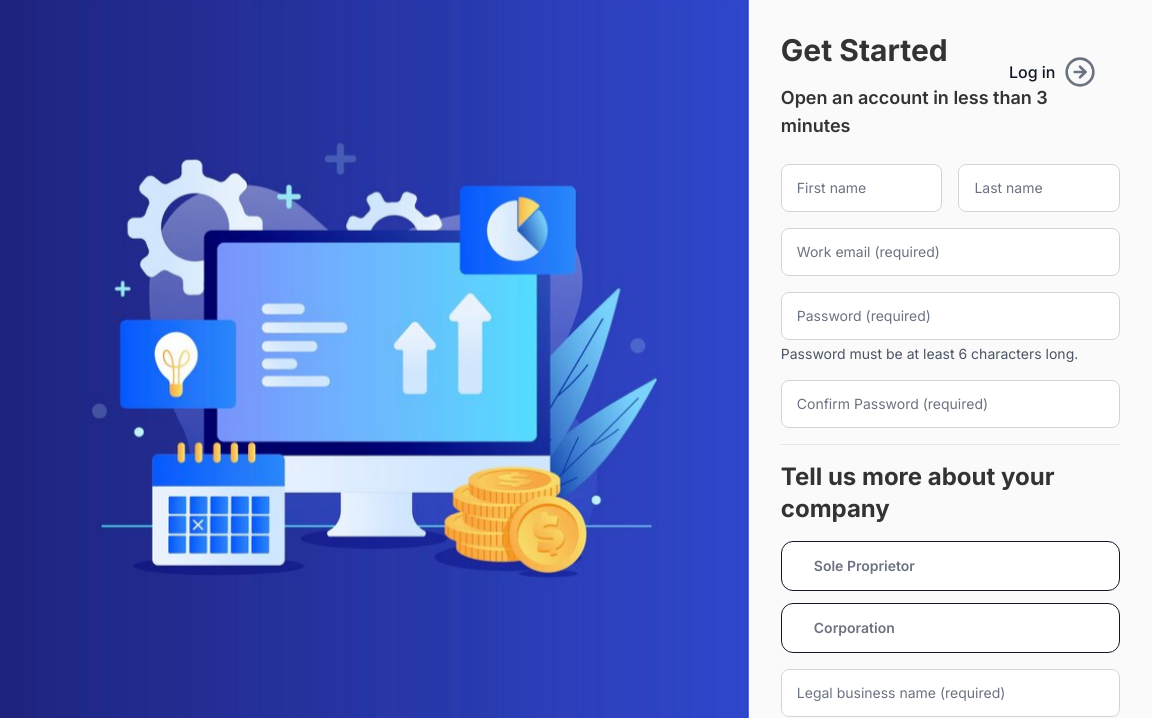
it: SignupForm › displays validation error when passwords do not match
The width and height of the screenshot is (1152, 718).
Type "password123" into the password field with placeholder "Password (required)" at (950, 316), box x1=781 y1=292 x2=1120 y2=340
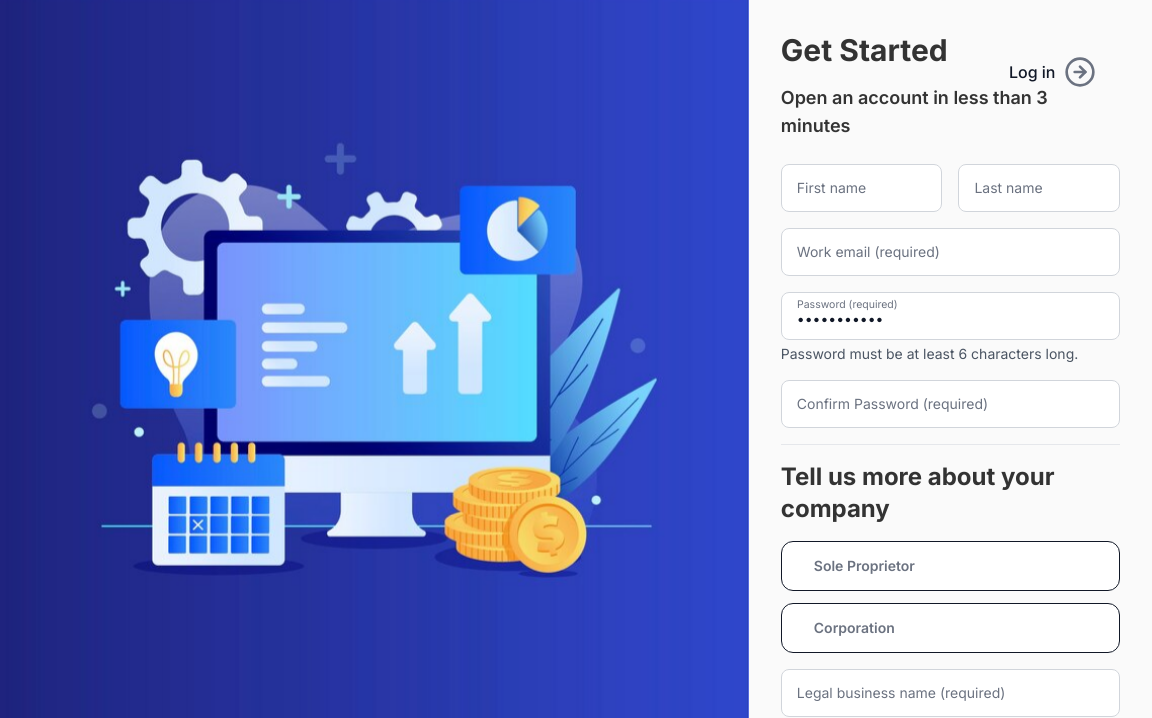
Type "password456" into the password field with placeholder "Confirm Password (required)" at (950, 404), box x1=781 y1=380 x2=1120 y2=428
(page scrolled)
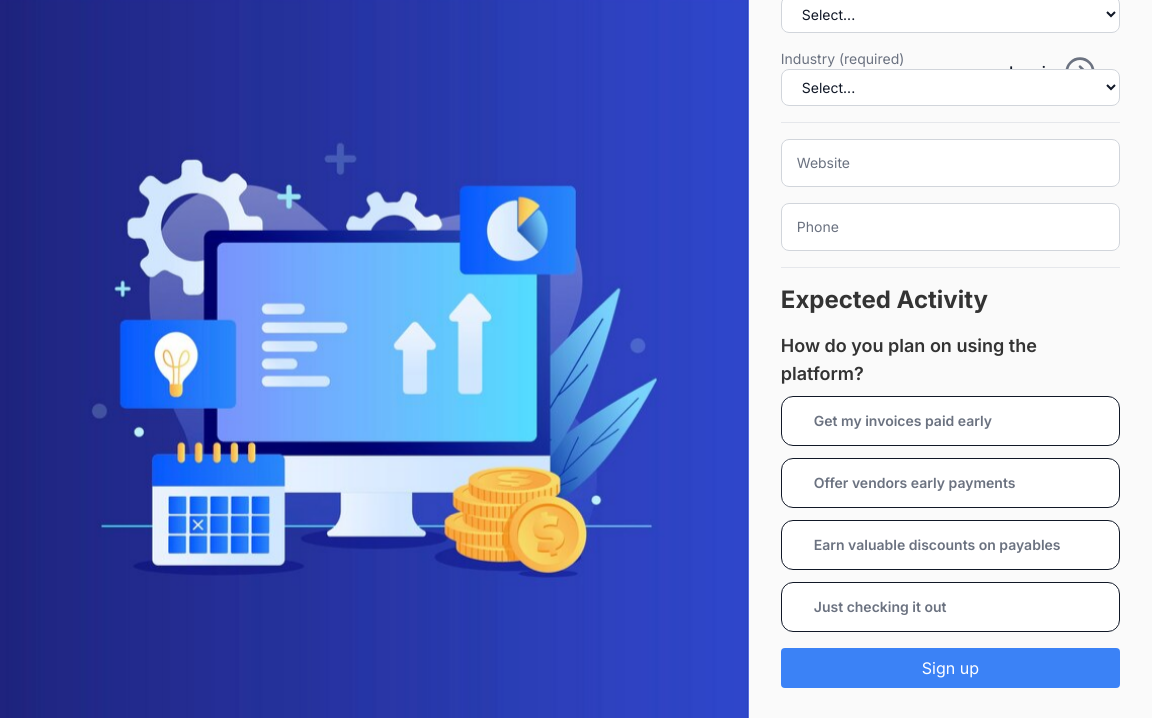
Click the button "Sign up" at (950, 668), box x1=781 y1=648 x2=1120 y2=688
(page scrolled)
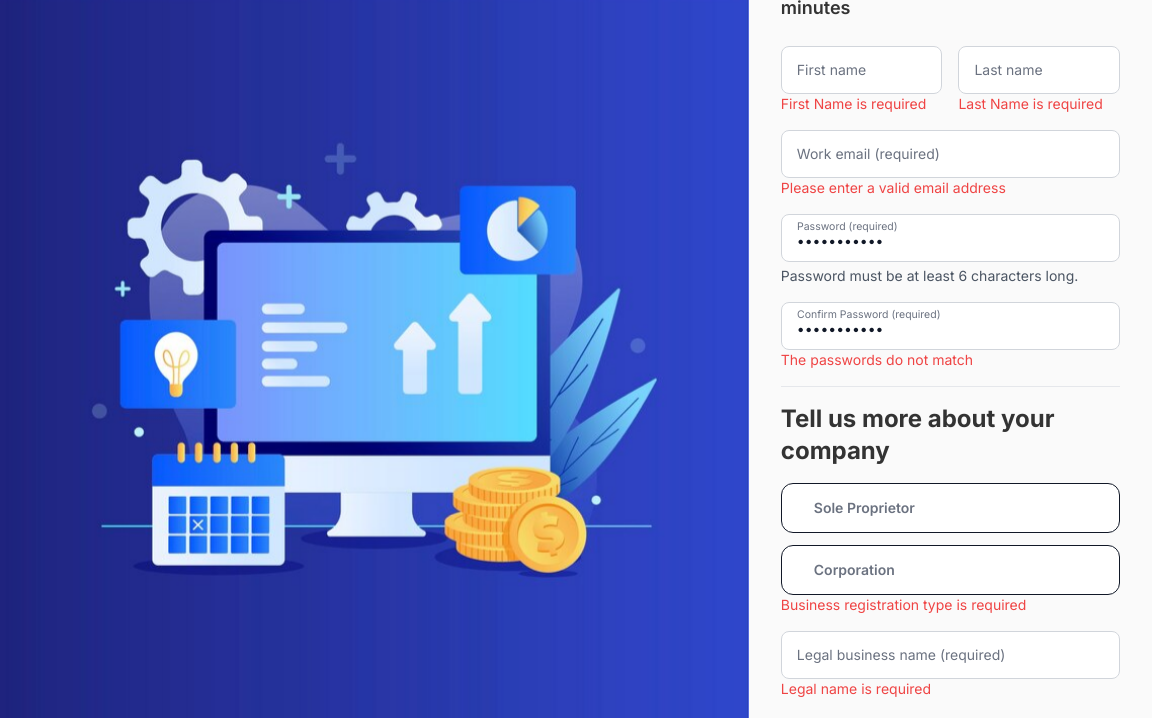
expect the text "The passwords do not match" is shown: met, box x1=781 y1=351 x2=973 y2=368
